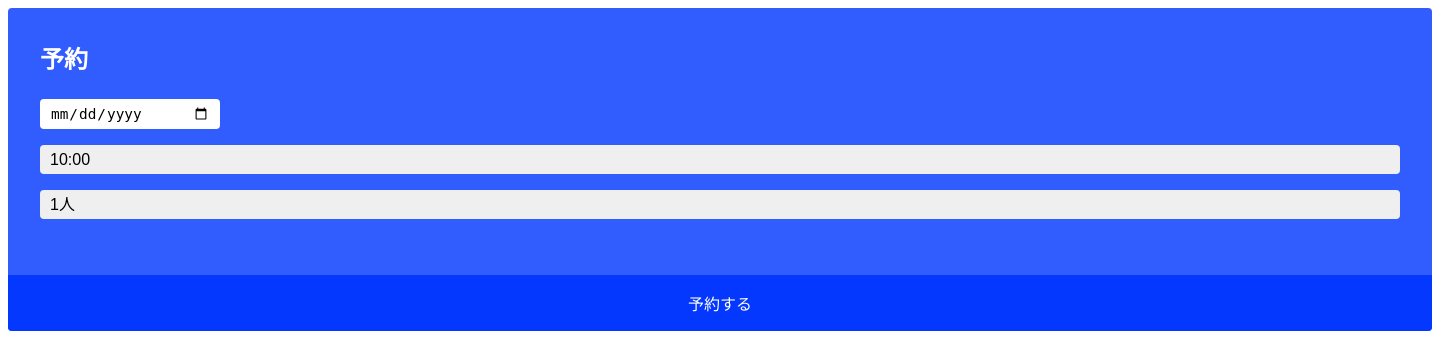
Test: ShopReservationArea › 予約エラーが表示される
Click the button "予約する".
click(720, 303)  # box [8, 275, 1432, 331]
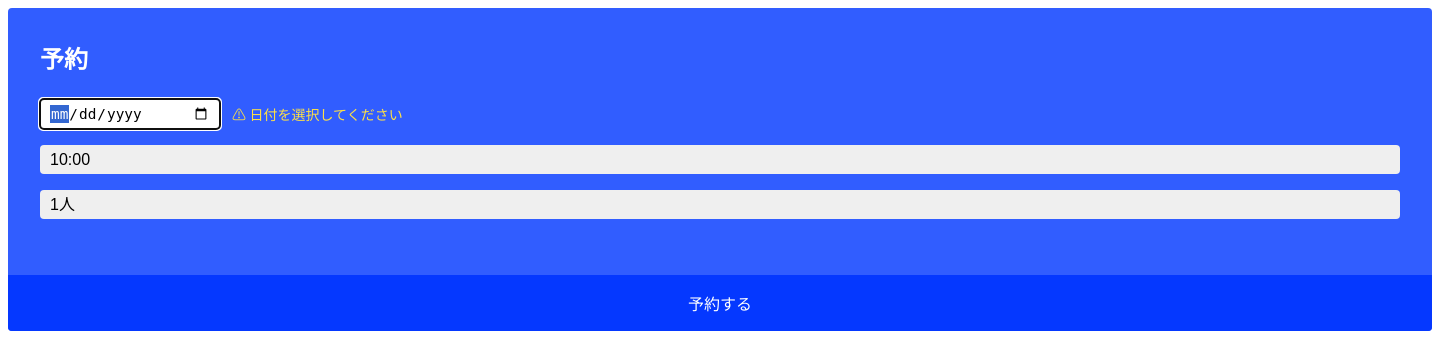
Result: the text "日付を選択してください" is shown at [250, 108, 403, 123]
